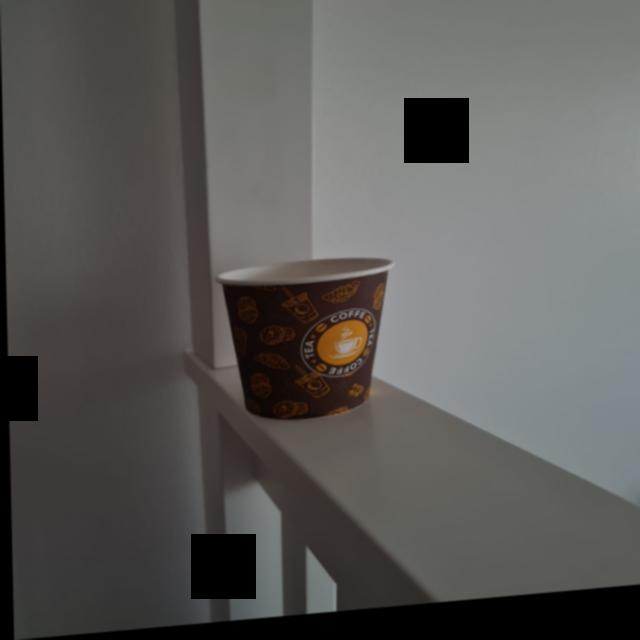cups: (212, 255, 394, 432)
